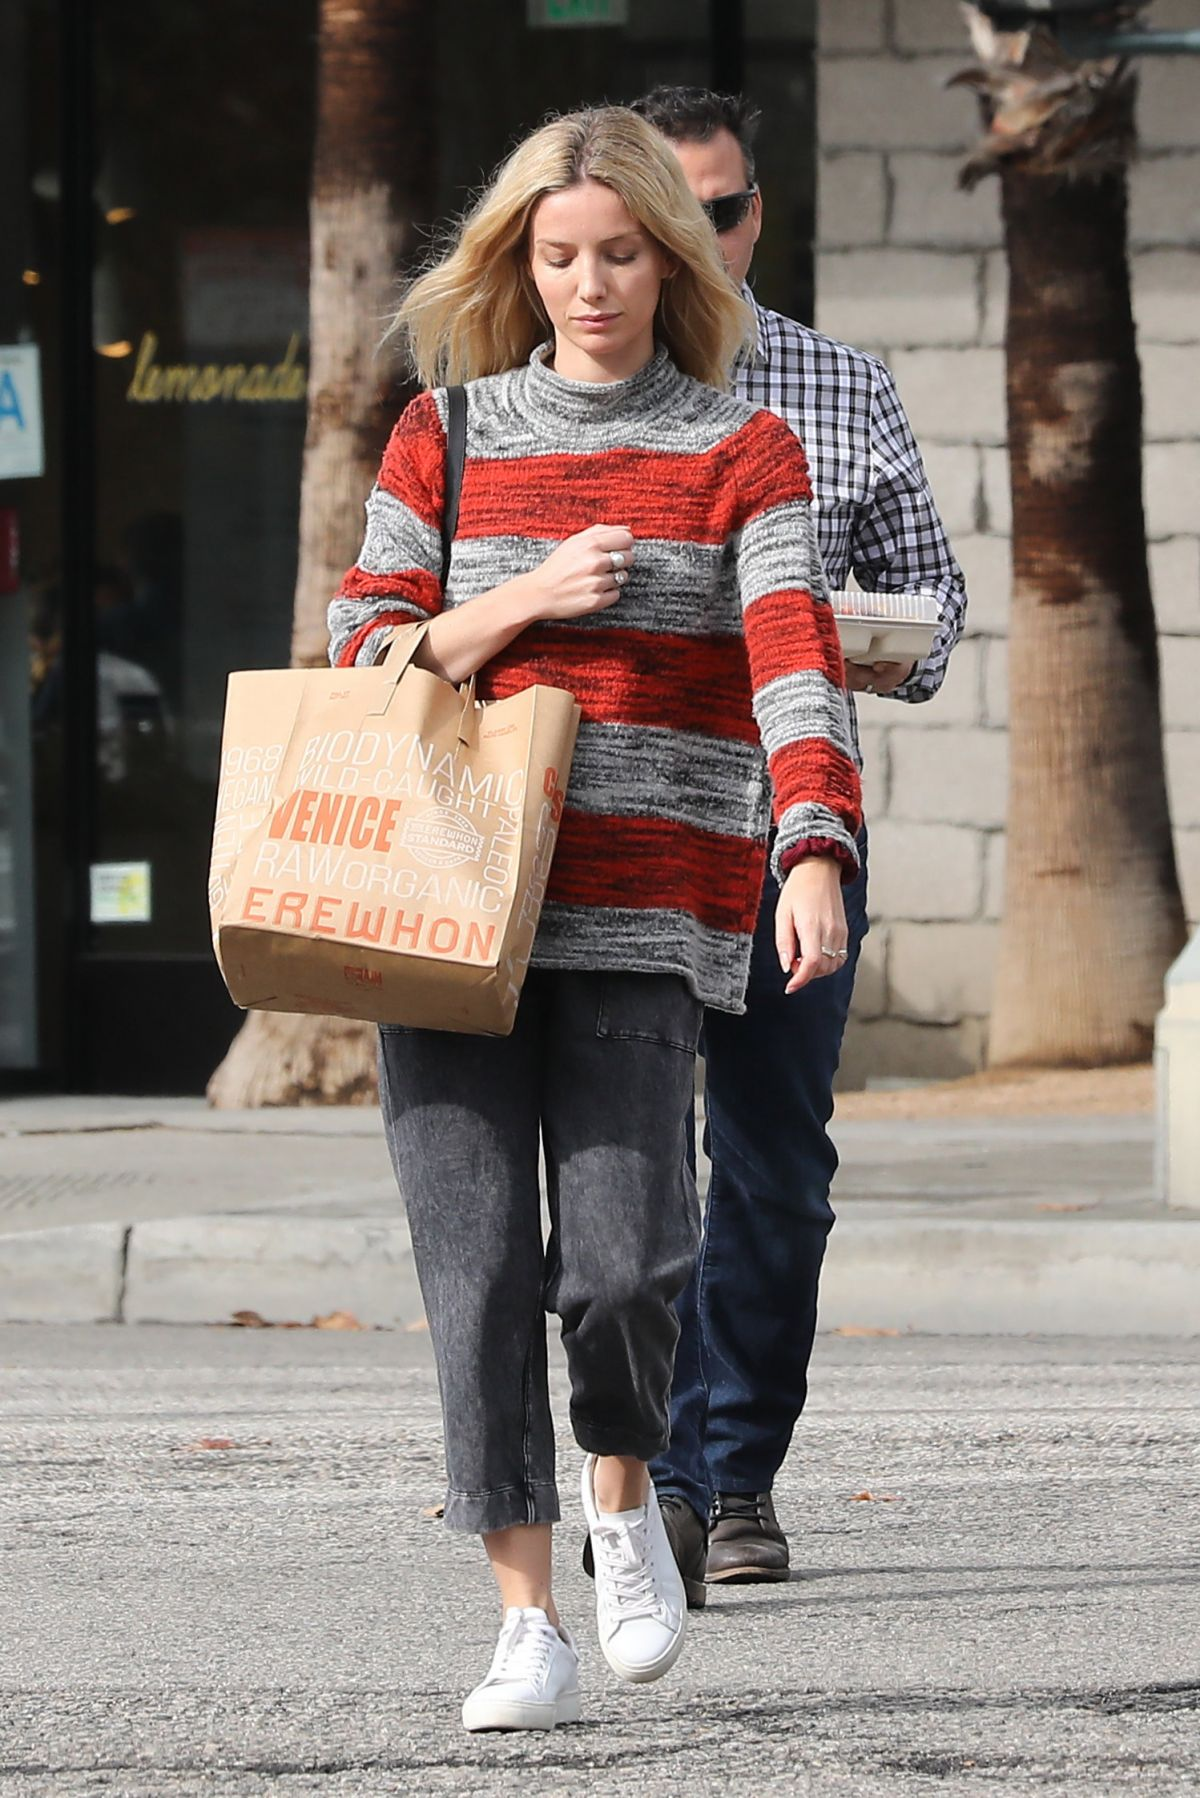Person: (328, 108, 864, 1729)
